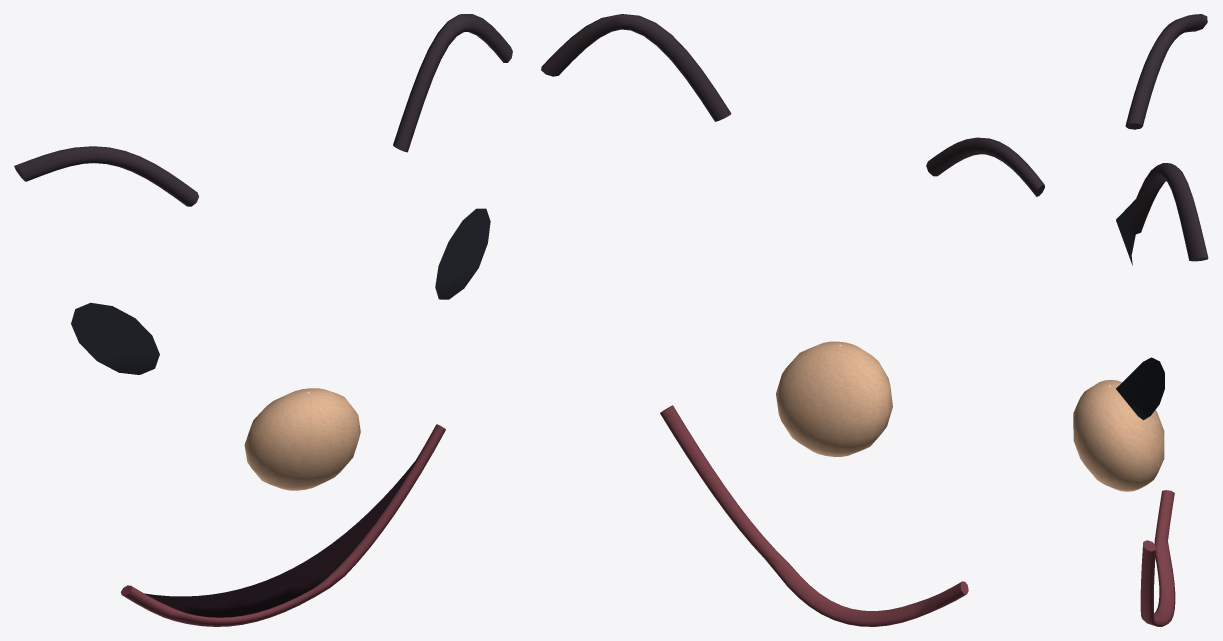
The model's file is face_arched_crook.gltf.
The picture shows the model from 3 angles, left to right: view 1: azimuth 30°, elevation 25°; view 2: azimuth 150°, elevation 25°; view 3: azimuth 270°, elevation 25°; orthographic projection.
Parts seen in each view (by area): view 1: Sly Smile; view 2: Sly Smile; view 3: Sly Smile.
Part boxes in pixels (x1=…): Sly Smile: x1=14, y1=14, x2=512, y2=626; Sly Smile: x1=541, y1=14, x2=1044, y2=626; Sly Smile: x1=1073, y1=14, x2=1208, y2=626.
Bounding box in the file's own units: 0.2597 × 0.2768 × 0.0615.
Materials: 5 (5 with a texture image).
